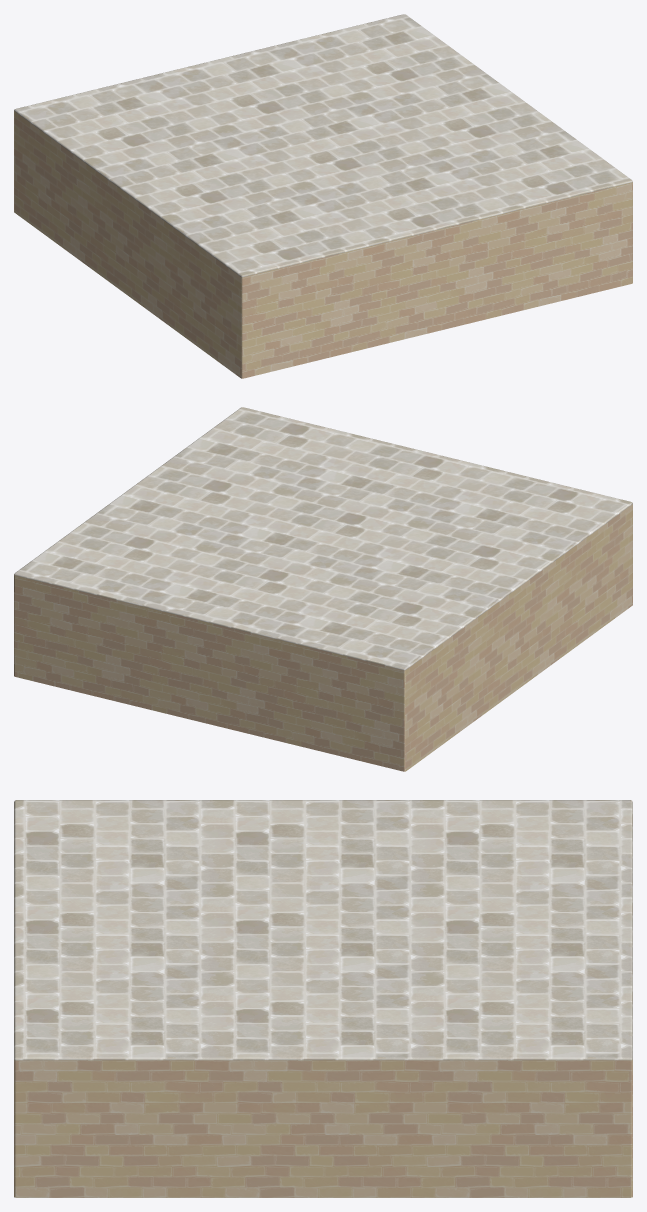
The model's file is SM_platform_03.fbx.
3 renders of one model, top to bottom at view 1: azimuth 30°, elevation 25°; view 2: azimuth 150°, elevation 25°; view 3: azimuth 270°, elevation 25°, orthographic. The views are drawn at different scales.
Parts seen in each view (by area): view 1: Object33205; view 2: Object33205; view 3: Object33205.
Boxes of the visible parts, <box> form: Object33205: <box>14,14,632,378</box>; Object33205: <box>14,407,632,771</box>; Object33205: <box>14,800,632,1197</box>.
Bounding box in the file's own units: 307 × 77.12 × 310.
